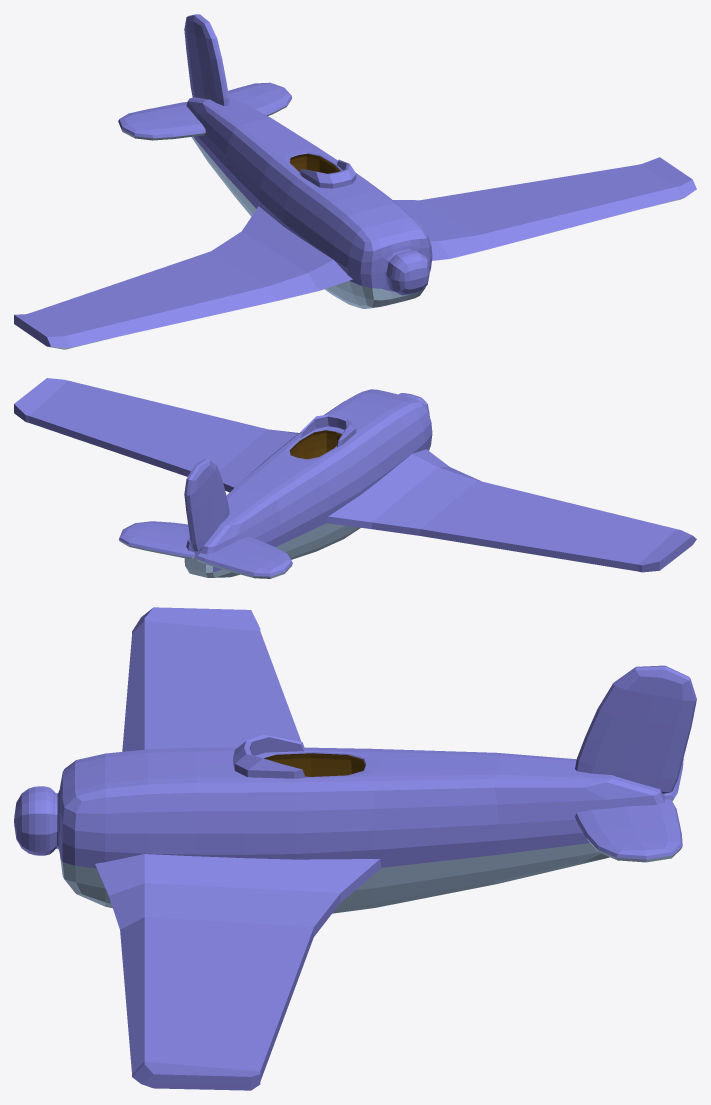
Rendered from unoplane.fbx.
The picture shows the model from 3 angles, top to bottom: view 1: azimuth 30°, elevation 25°; view 2: azimuth 150°, elevation 25°; view 3: azimuth 270°, elevation 25°; orthographic projection. The views are drawn at different scales.
Visible parts, largest first — view 1: Cube.018; view 2: Cube.018; view 3: Cube.018.
Part boxes in pixels (x1=…): Cube.018: x1=14, y1=14, x2=696, y2=349; Cube.018: x1=14, y1=378, x2=696, y2=578; Cube.018: x1=14, y1=607, x2=696, y2=1090.
Bounding box in the file's own units: 498 × 192 × 806.
